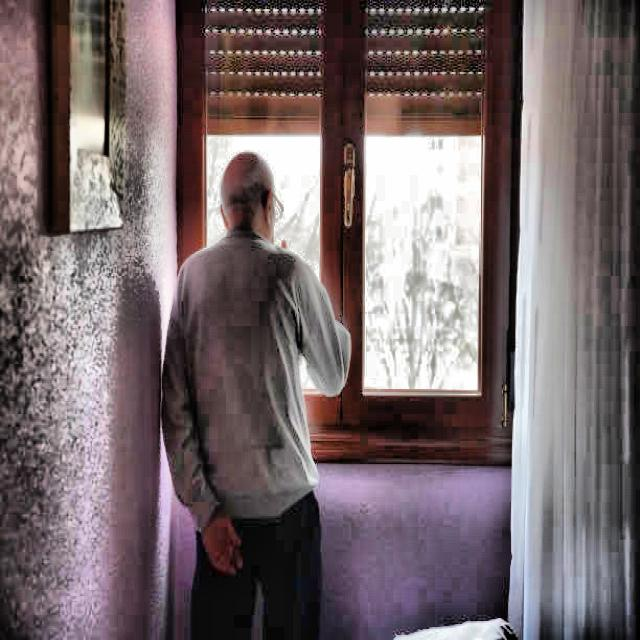Human: (154, 128, 368, 640)
